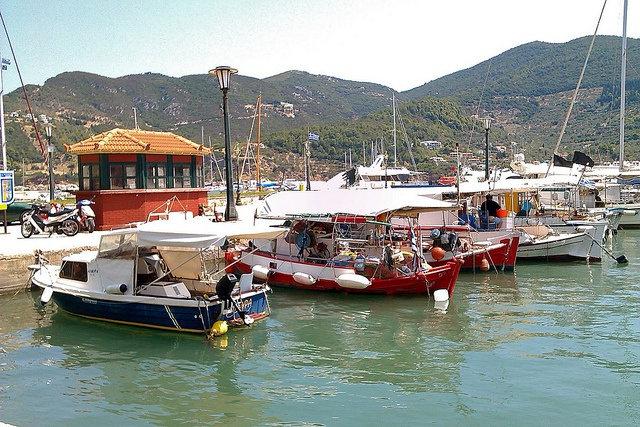non-vehicle: (20, 202, 79, 237), (62, 194, 96, 232)
